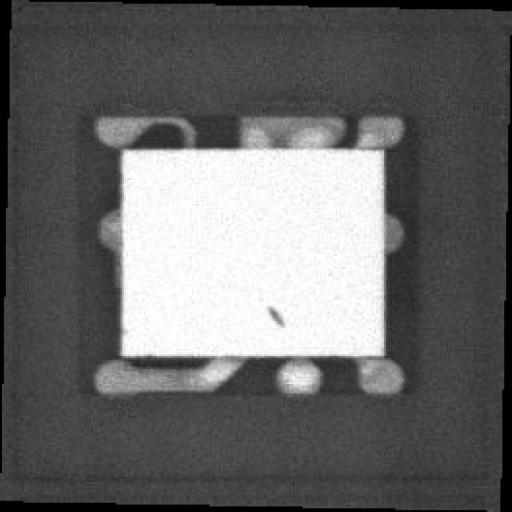DIE_INK: (250, 316, 271, 341)
